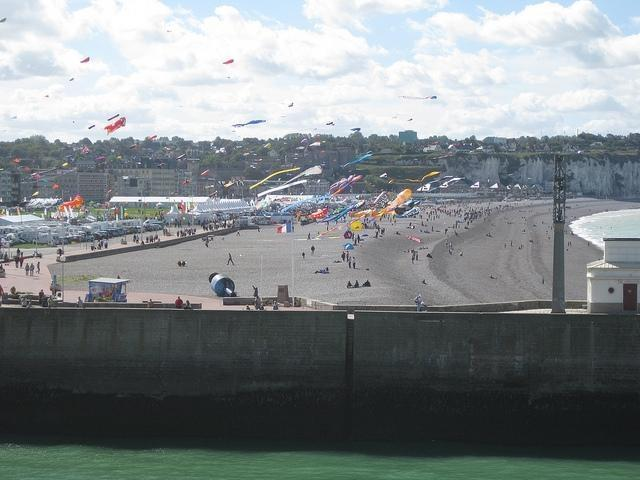car: (108, 229, 118, 238)
